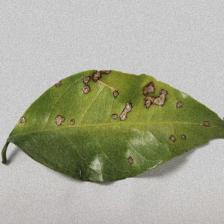canker: (32, 75, 198, 136)
